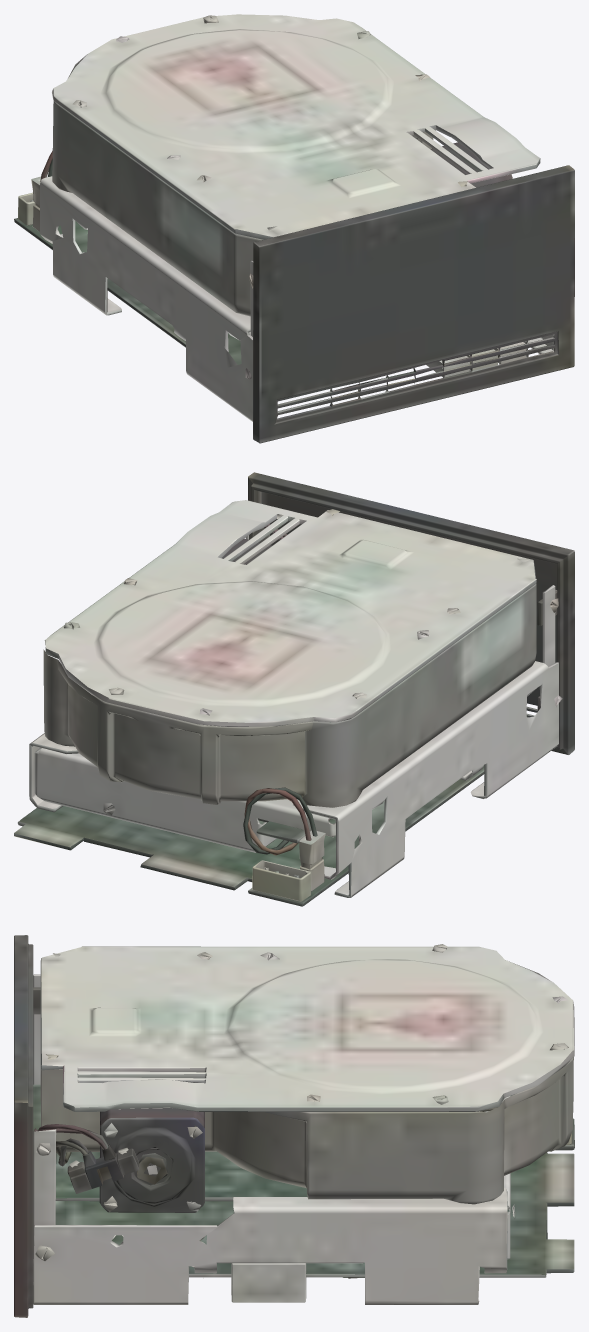
File: SM_ComputerParts_A04_N1.glb
3 views of the same model, one above another, from view 1: azimuth 30°, elevation 25°; view 2: azimuth 150°, elevation 25°; view 3: azimuth 270°, elevation 25° (orthographic). The views are drawn at different scales.
Parts seen in each view (by area): view 1: SM_ComputerParts_A04_N1; view 2: SM_ComputerParts_A04_N1; view 3: SM_ComputerParts_A04_N1.
Part boxes in pixels (x1,y1,x2,y2): SM_ComputerParts_A04_N1: [14, 14, 574, 443]; SM_ComputerParts_A04_N1: [14, 472, 574, 906]; SM_ComputerParts_A04_N1: [14, 935, 574, 1317].
Size of the model in its own units: 0.1401 by 0.0836 by 0.1975.
1 material, 1 textured.
